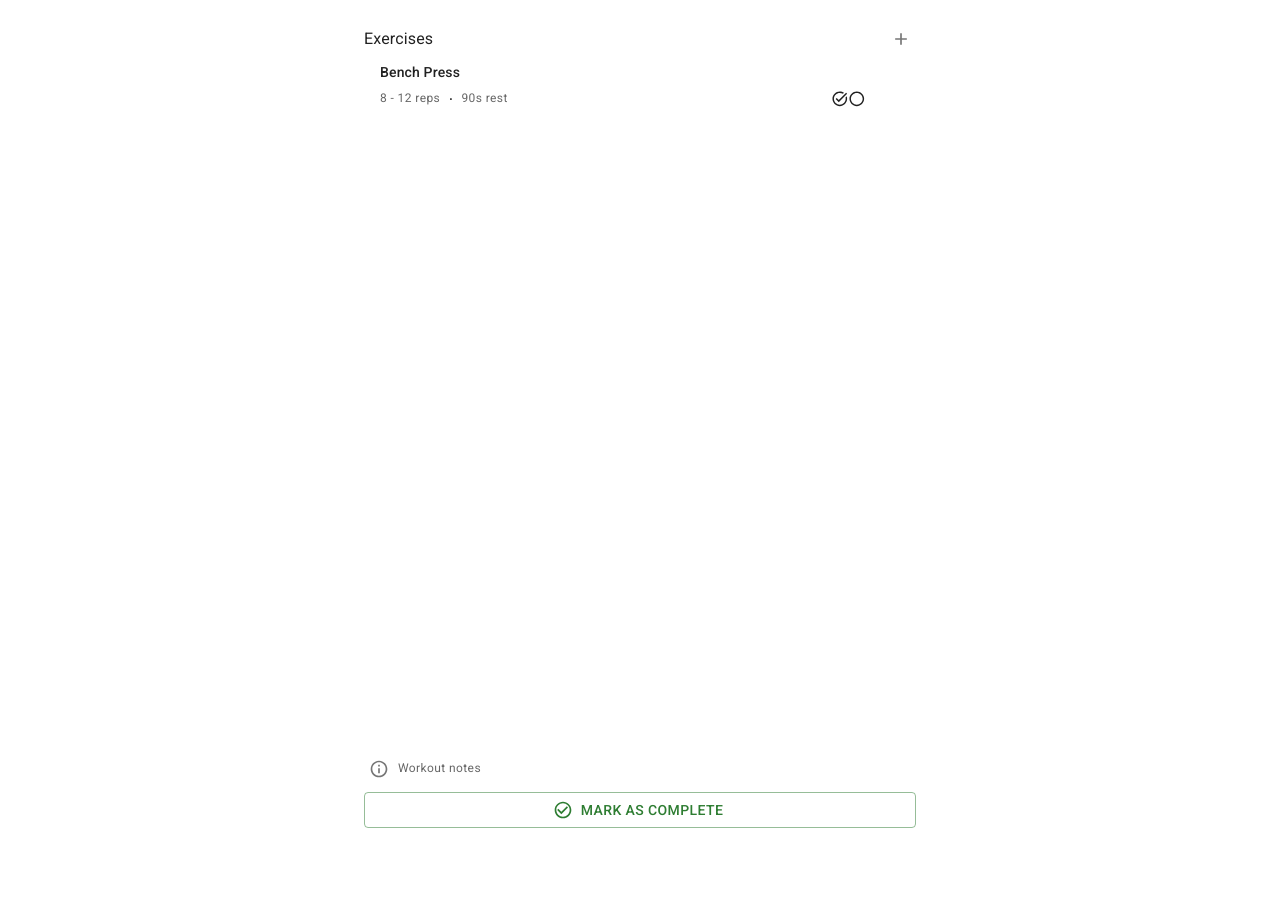
Test case: ExercisesListView › opens date picker dialog on long press of Mark as Complete
Press the mouse on the button "Mark as Complete" at (640, 810), box [364,792,916,828]
Wait 650 ms
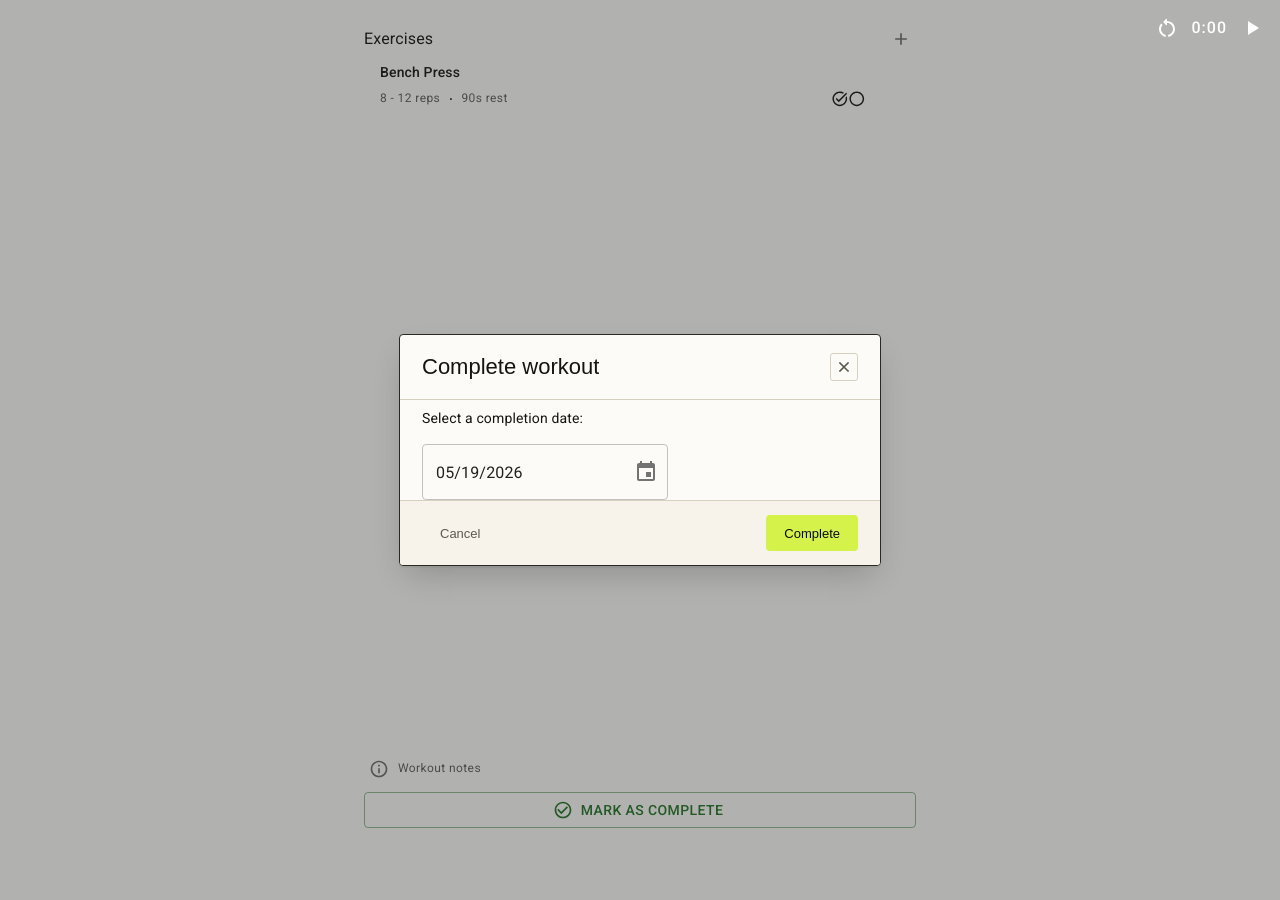
Check: the dialog is shown, box [399,334,881,566]
Check: the heading "Complete workout" is shown, box [422,354,599,380]
